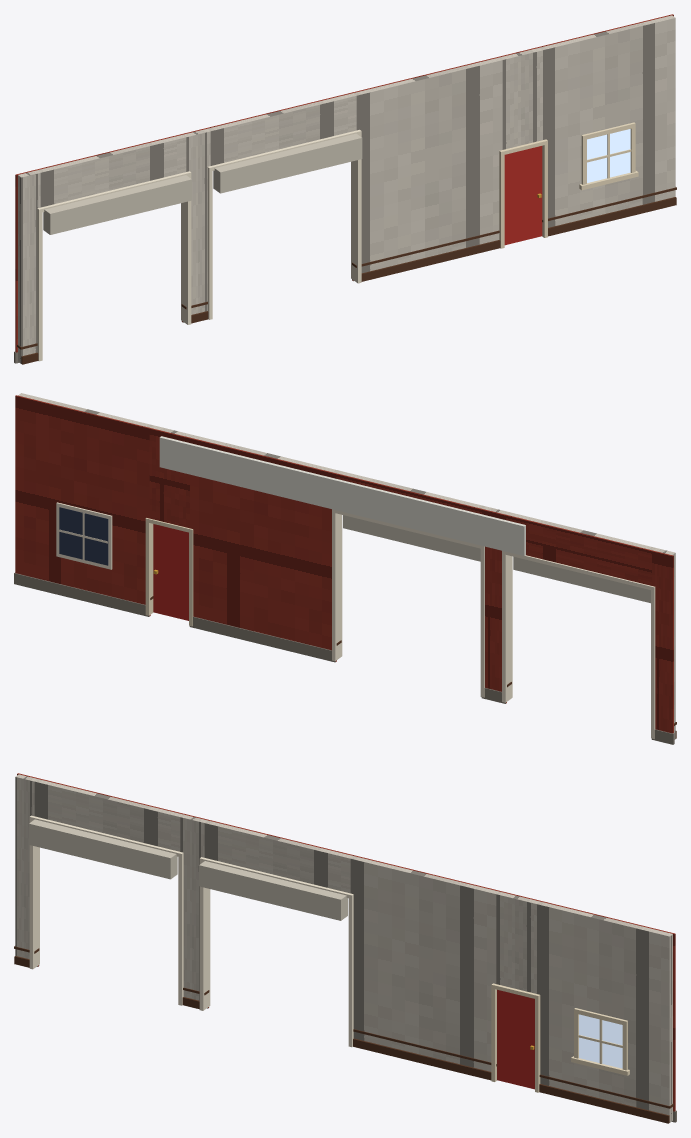
Rendered from fire_front.glb.
The picture shows the model from 3 angles, top to bottom: view 1: azimuth 30°, elevation 25°; view 2: azimuth 150°, elevation 25°; view 3: azimuth 330°, elevation 25°; orthographic projection.
Visible parts, largest first — view 1: Box5, Box7, Box9, Box10, Box36, Box32, Box11, Box1, Box26, Box3, Box46, Box30 (+12 smaller); view 2: Box18, Box16, Box37, Box20, Box12, Box26, Box22, Box14, Box39, Box32, Box36, Box17 (+14 smaller); view 3: Box5, Box7, Box10, Box9, Box32, Box36, Box11, Box26, Box3, Box1, Box46, Box33 (+11 smaller).
Part boxes in pixels (left/top/right/bottom): Box5: left=353, top=57, right=502, bottom=273; Box7: left=540, top=15, right=675, bottom=227; Box9: left=37, top=134, right=186, bottom=207; Box10: left=207, top=93, right=356, bottom=165; Box36: left=213, top=133, right=362, bottom=193; Box32: left=43, top=175, right=191, bottom=234; Box11: left=499, top=47, right=542, bottom=149; Box1: left=18, top=170, right=40, bottom=363; Box26: left=504, top=146, right=542, bottom=245; Box3: left=183, top=129, right=210, bottom=314; Box46: left=587, top=129, right=630, bottom=182; Box30: left=181, top=171, right=191, bottom=324; Box18: left=15, top=395, right=150, bottom=616; Box16: left=190, top=438, right=336, bottom=661; Box37: left=159, top=436, right=525, bottom=555; Box20: left=506, top=515, right=652, bottom=585; Box12: left=652, top=550, right=673, bottom=733; Box26: left=153, top=524, right=188, bottom=620; Box22: left=149, top=428, right=190, bottom=528; Box14: left=482, top=509, right=506, bottom=703; Box39: left=59, top=507, right=108, bottom=565; Box32: left=513, top=556, right=650, bottom=603; Box36: left=343, top=515, right=480, bottom=561; Box17: left=189, top=616, right=335, bottom=662; Box5: left=350, top=856, right=499, bottom=1071; Box7: left=537, top=901, right=672, bottom=1122; Box10: left=204, top=820, right=353, bottom=893; Box9: left=34, top=779, right=183, bottom=851; Box32: left=29, top=819, right=177, bottom=879; Box36: left=199, top=861, right=347, bottom=920; Box11: left=496, top=892, right=539, bottom=993; Box26: left=497, top=989, right=534, bottom=1089; Box3: left=180, top=814, right=207, bottom=1000; Box1: left=15, top=774, right=37, bottom=958; Box46: left=579, top=1014, right=622, bottom=1068; Box33: left=199, top=857, right=210, bottom=1010.
Size of the model in its own units: 16.27 by 4.44 by 0.61.
Materials: 12 (2 with a texture image).
